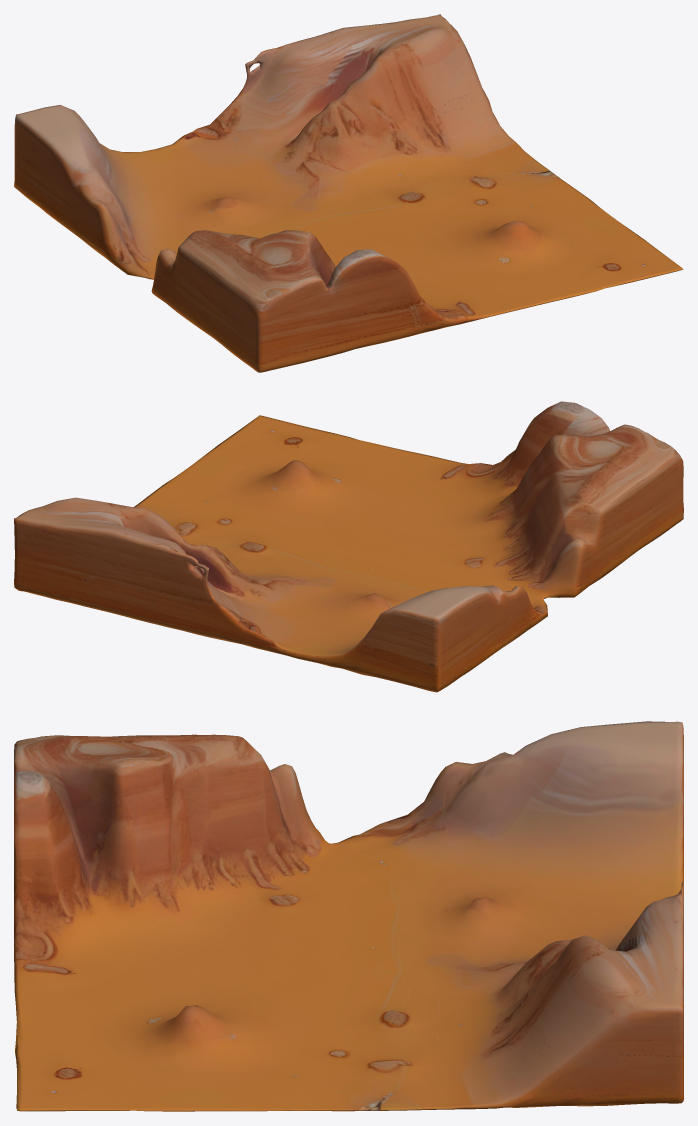
Rendered from tripo_convert_ad64926a-302a-4f75-bf9e-152e88c3016e.obj.
The picture shows the model from 3 angles, top to bottom: view 1: azimuth 30°, elevation 25°; view 2: azimuth 150°, elevation 25°; view 3: azimuth 270°, elevation 25°; orthographic projection. The views are drawn at different scales.
Visible parts, largest first — view 1: tripo_node_ad64926a-302a-4f75-bf9e-152e88c3016e; view 2: tripo_node_ad64926a-302a-4f75-bf9e-152e88c3016e; view 3: tripo_node_ad64926a-302a-4f75-bf9e-152e88c3016e.
Part boxes in pixels (bbox=[...]): tripo_node_ad64926a-302a-4f75-bf9e-152e88c3016e: bbox=[14, 14, 683, 372]; tripo_node_ad64926a-302a-4f75-bf9e-152e88c3016e: bbox=[14, 401, 683, 692]; tripo_node_ad64926a-302a-4f75-bf9e-152e88c3016e: bbox=[14, 721, 683, 1111].
Bounding box in the file's own units: 0.9999 × 0.205 × 0.999.
